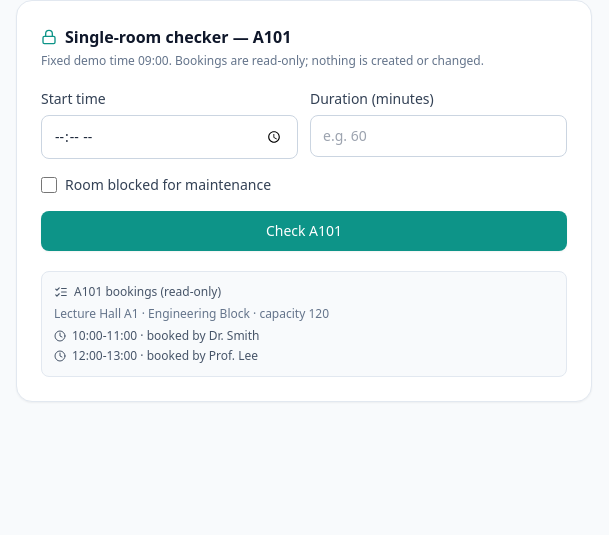
it: ContractChecker UI › T1 through the form: 13:30/60/open shows the AVAILABLE message
In the time field labelled "Start time": (170, 137) [41, 115, 298, 159], type "13:30"
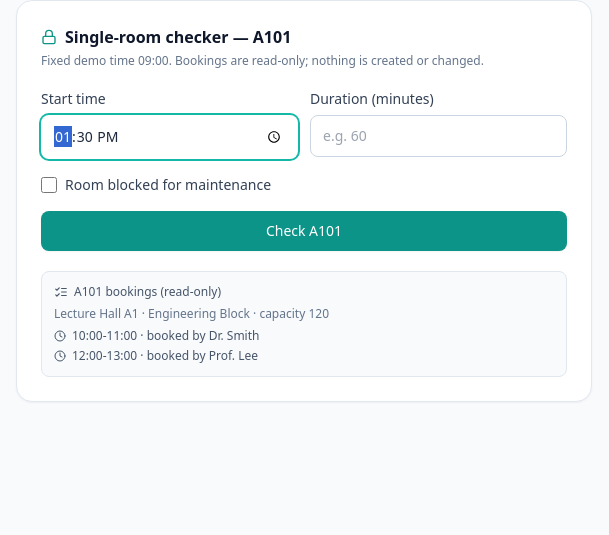
In the number field labelled "Duration (minutes)": (438, 136) [310, 115, 567, 157], type "60"
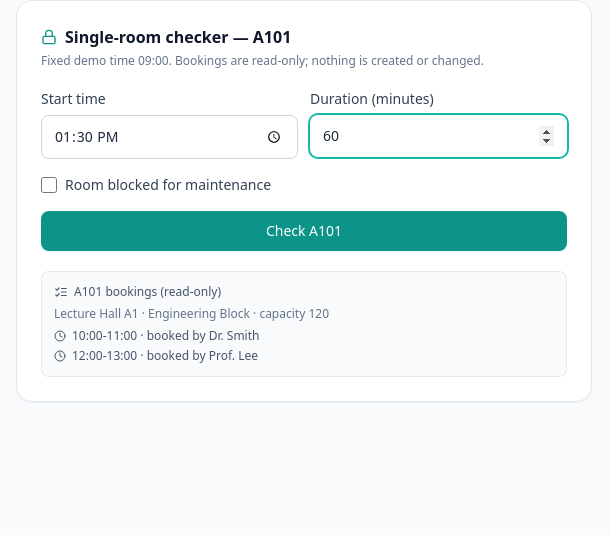
Click the button "Check A101": (304, 231) [41, 211, 567, 251]
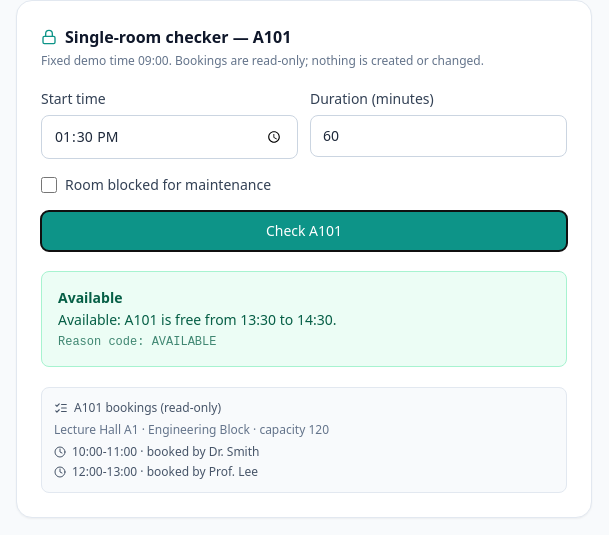
Expected: the text "Available: A101 is free from 13:30 to 14:30." is shown, [58, 310, 336, 329]
Expected: the text "Reason code: AVAILABLE" is shown, [58, 335, 216, 349]
